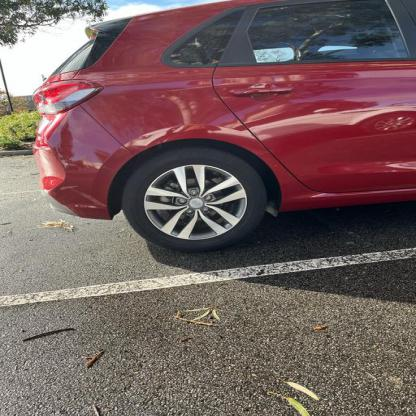Tire: (122, 148, 268, 253)
